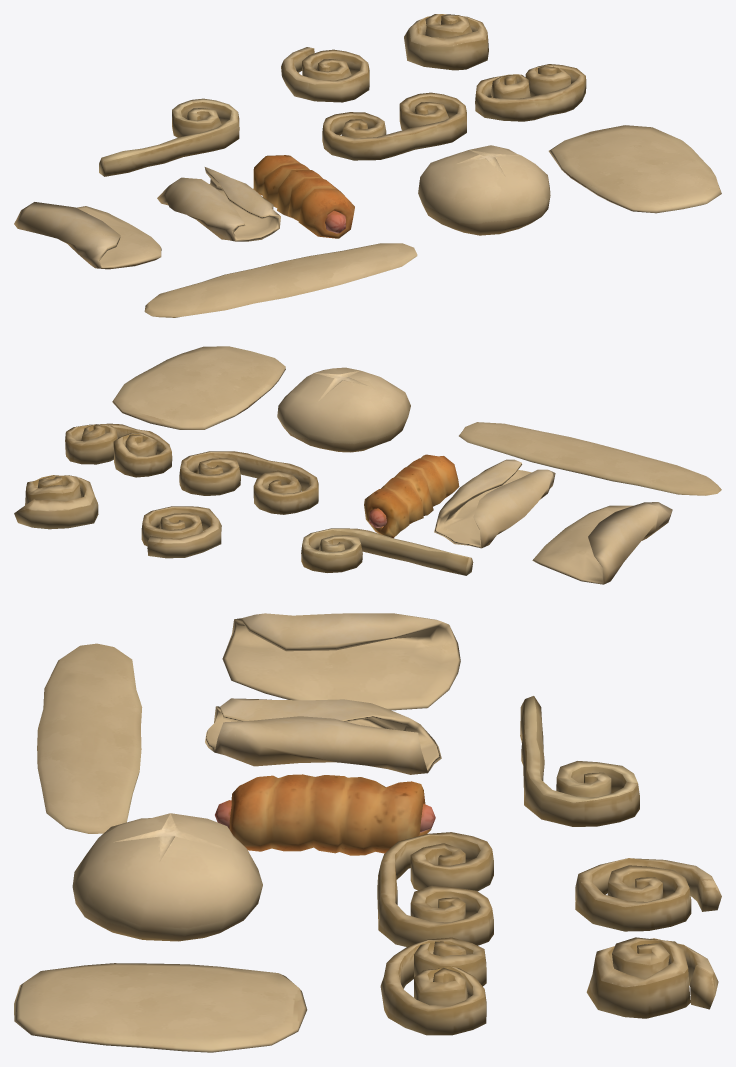
File: Bulkasting2.fbx
The picture shows the model from 3 angles, top to bottom: view 1: azimuth 30°, elevation 25°; view 2: azimuth 150°, elevation 25°; view 3: azimuth 270°, elevation 25°; orthographic projection. The views are drawn at different scales.
Visible parts, largest first — view 1: Flatten.008, Raw.005, Flatten.009, Spiral.007, Flatten.010, Flatten.007, Spiral.002, Spiral.003, Sosiska.005, Spiral.008, Spiral.004; view 2: Flatten.008, Raw.005, Flatten.009, Flatten.010, Flatten.007, Spiral.007, Spiral.003, Sosiska.005, Spiral.002, Spiral.004, Spiral.008; view 3: Flatten.008, Flatten.010, Raw.005, Flatten.009, Flatten.007, Sosiska.005, Spiral.007, Spiral.002, Spiral.008, Spiral.004, Spiral.003.
Part boxes in pixels (box(x1,y1,x2,y2)): Flatten.008: box(548, 125, 721, 213); Raw.005: box(418, 145, 550, 235); Flatten.009: box(144, 243, 417, 317); Spiral.007: box(322, 92, 466, 160); Flatten.010: box(14, 202, 161, 269); Flatten.007: box(157, 167, 280, 241); Spiral.002: box(475, 64, 586, 121); Spiral.003: box(99, 98, 239, 176); Sosiska.005: box(253, 155, 354, 238); Spiral.008: box(281, 47, 369, 102); Spiral.004: box(404, 14, 488, 70); Flatten.008: box(112, 346, 285, 429); Raw.005: box(277, 367, 410, 452); Flatten.009: box(459, 422, 721, 495); Flatten.010: box(532, 502, 672, 584); Flatten.007: box(434, 459, 555, 548); Spiral.007: box(179, 451, 318, 514); Spiral.003: box(301, 528, 473, 575); Sosiska.005: box(364, 454, 459, 538); Spiral.002: box(65, 423, 172, 477); Spiral.004: box(14, 475, 98, 529); Spiral.008: box(141, 506, 221, 558); Flatten.008: box(14, 963, 307, 1052); Flatten.010: box(222, 613, 460, 710); Raw.005: box(72, 813, 262, 941); Flatten.009: box(37, 643, 142, 833); Flatten.007: box(205, 698, 441, 774); Sosiska.005: box(229, 774, 431, 855); Spiral.007: box(377, 832, 493, 946); Spiral.002: box(380, 937, 486, 1035); Spiral.008: box(575, 858, 721, 931); Spiral.004: box(586, 937, 718, 1018); Spiral.003: box(520, 696, 639, 826).
Size of the model in its own units: 241 by 29.08 by 175.
